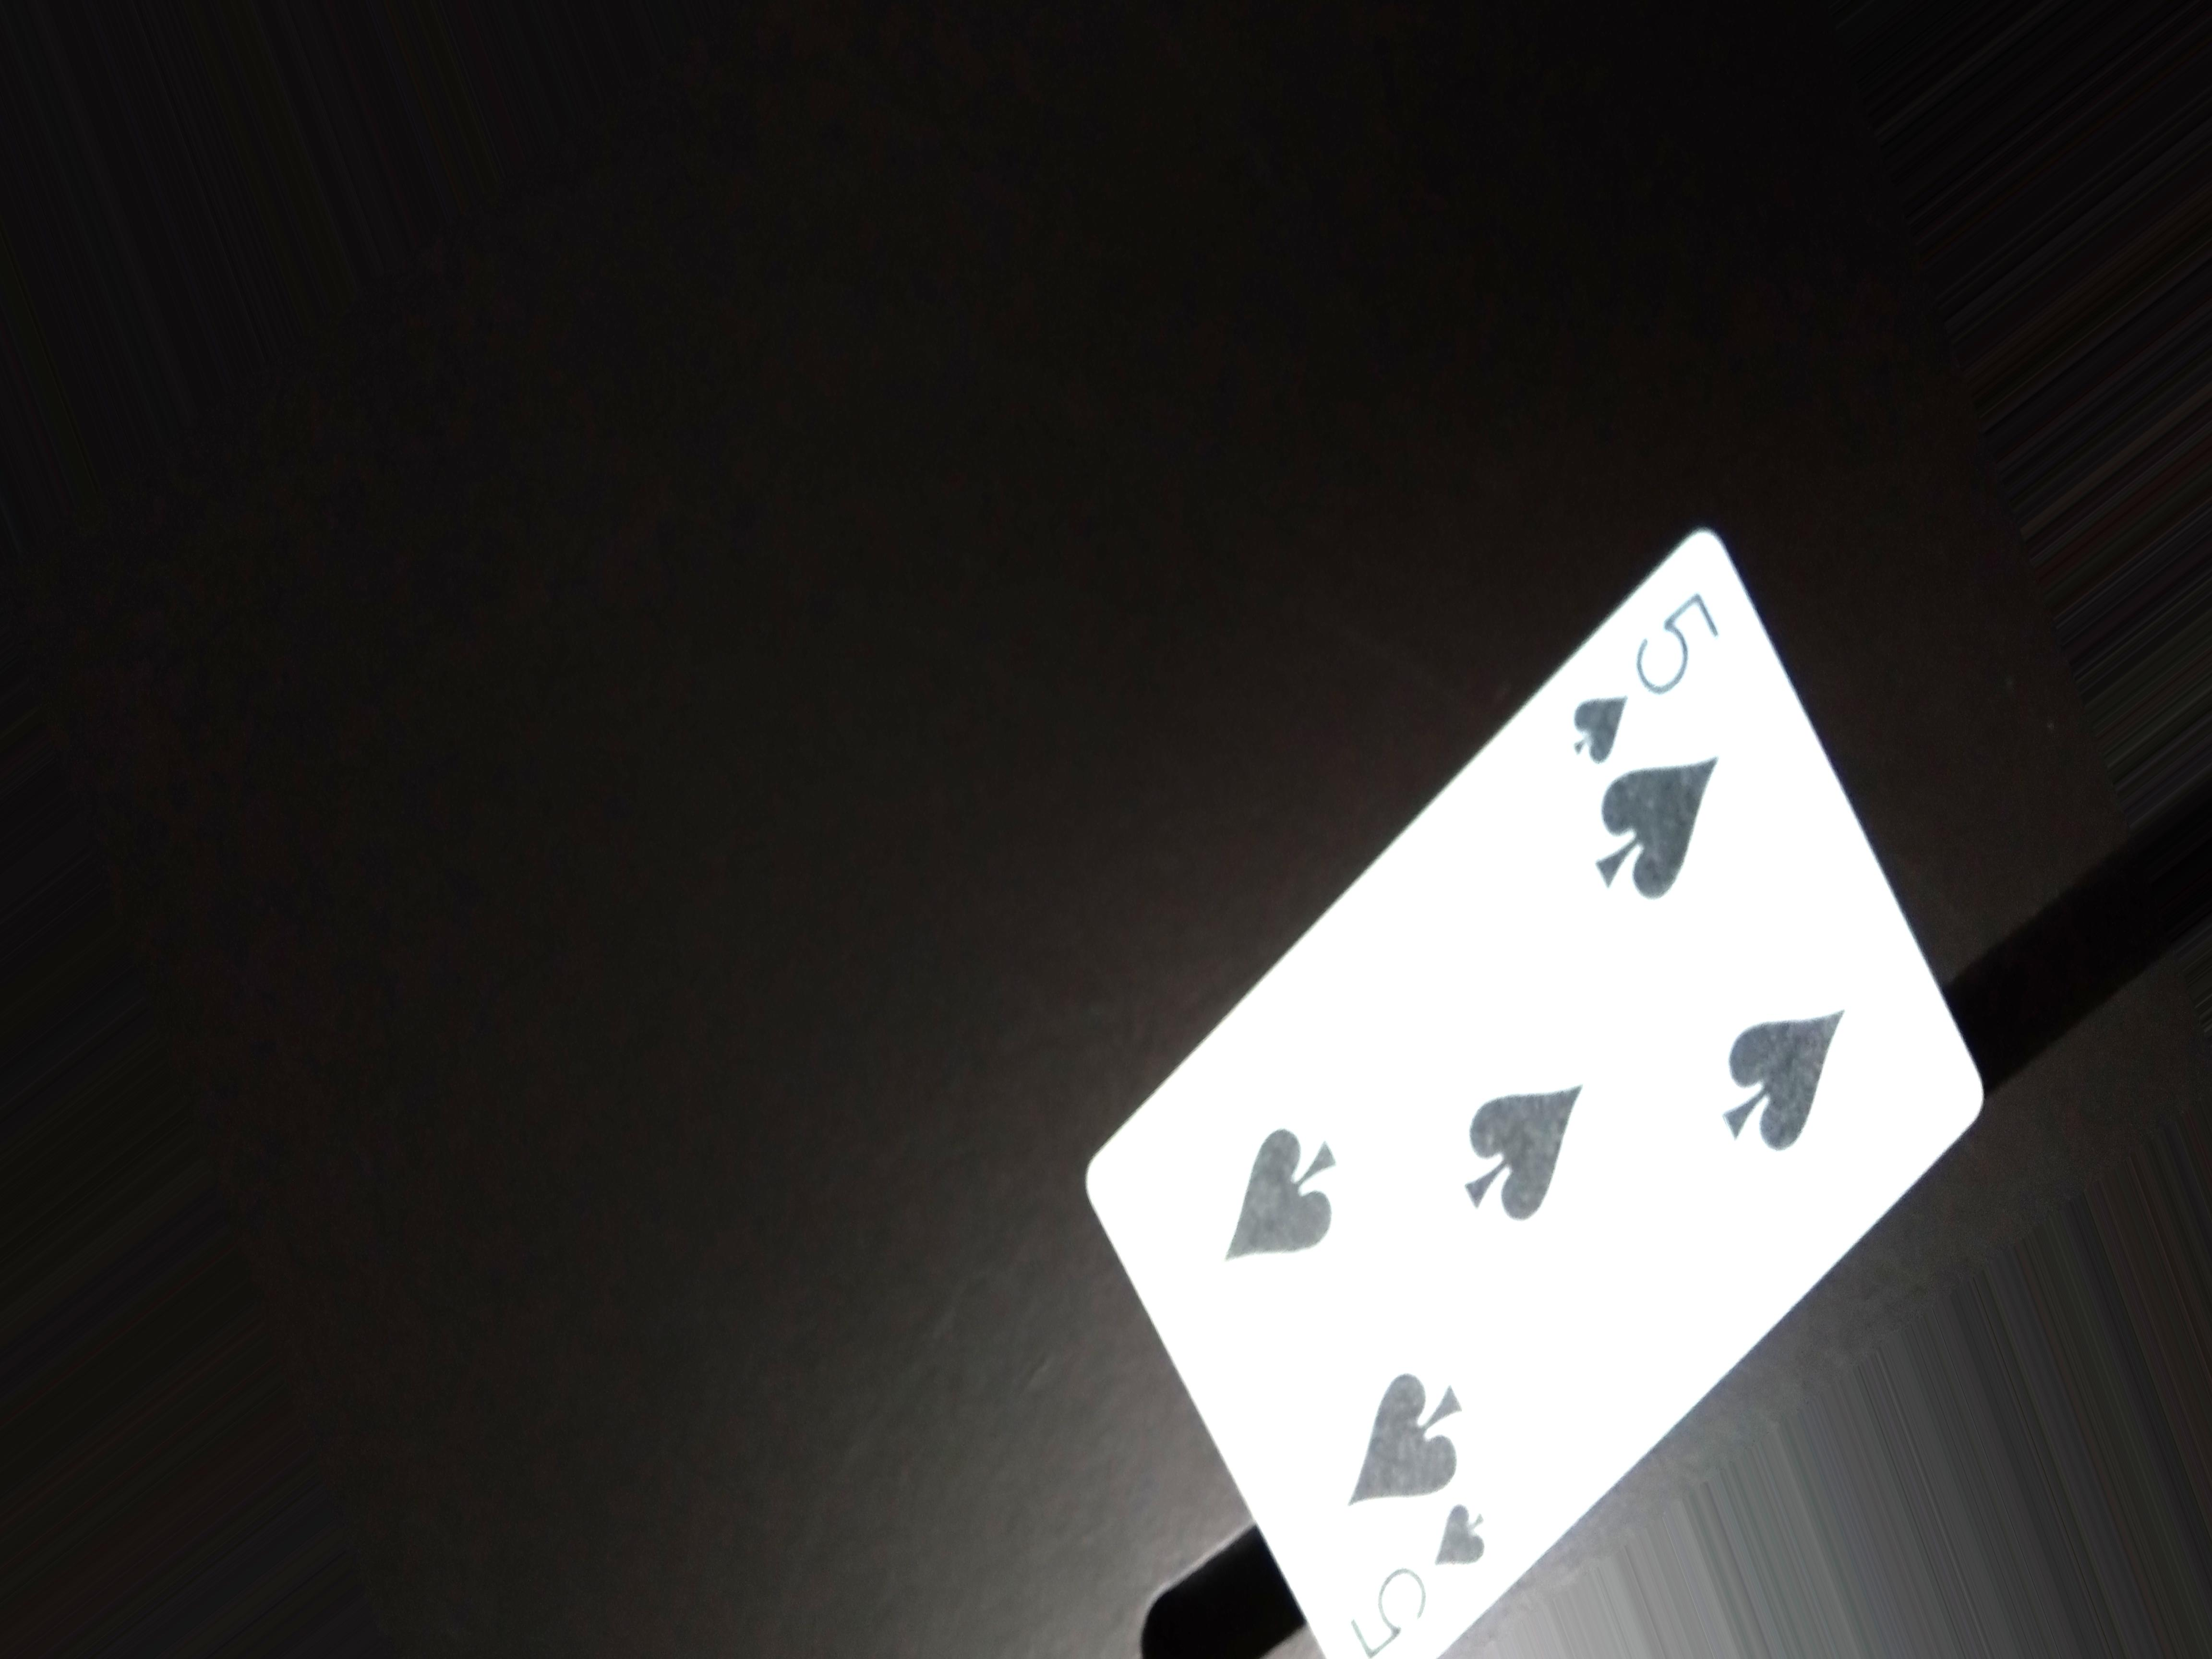5S: (1550, 580, 1735, 769)
